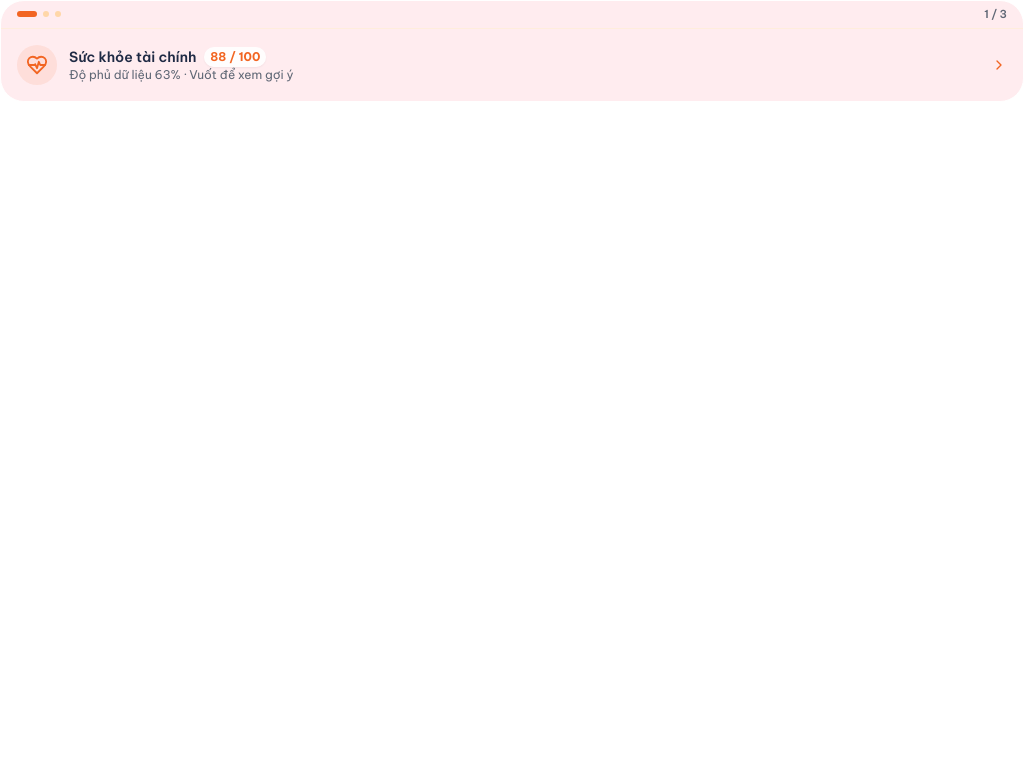
Test: HomeInsightWidget Carousel & Health Score › opens Health Score sheet with metric breakdown, coverage explanation, and agent assessment
Click the button with aria-label "Xem chi tiết Sức khỏe tài chính: 88 điểm": (37, 65) left=1, top=29, right=1023, bottom=101
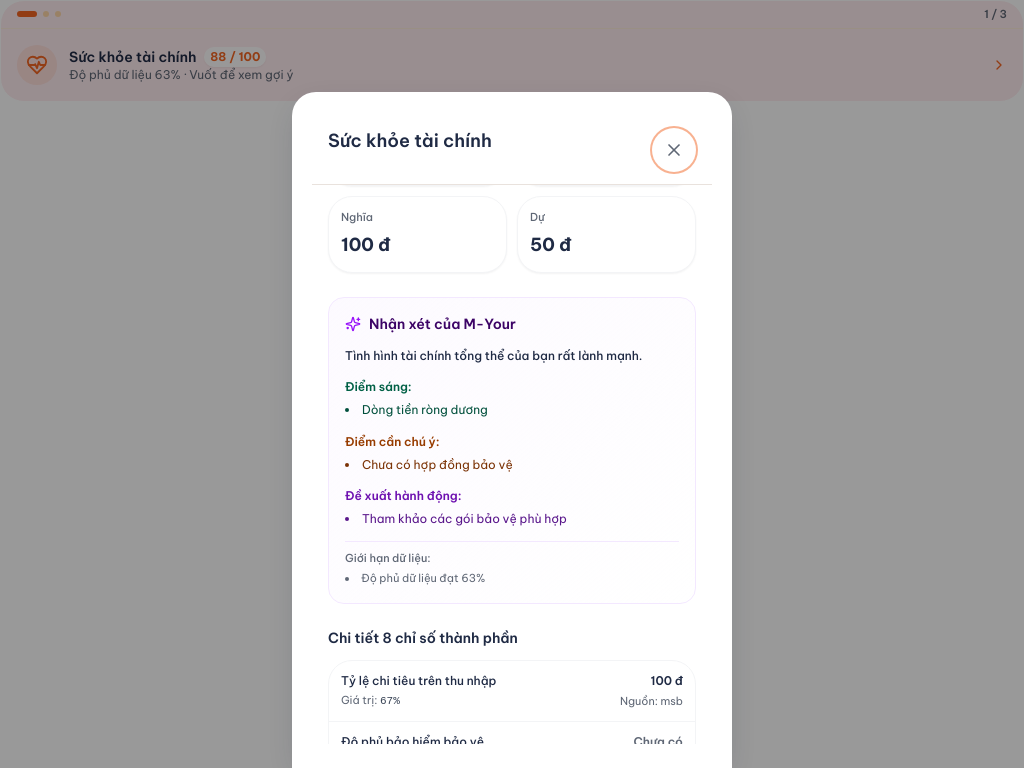
Expected: the dialog is shown, left=292, top=92, right=732, bottom=767
Expected: the text "Tỷ lệ chi tiêu trên thu nhập" is shown, left=341, top=673, right=496, bottom=689
Expected: the text "Tình hình tài chính tổng thể của bạn rất lành mạnh." is shown, left=345, top=346, right=679, bottom=365
